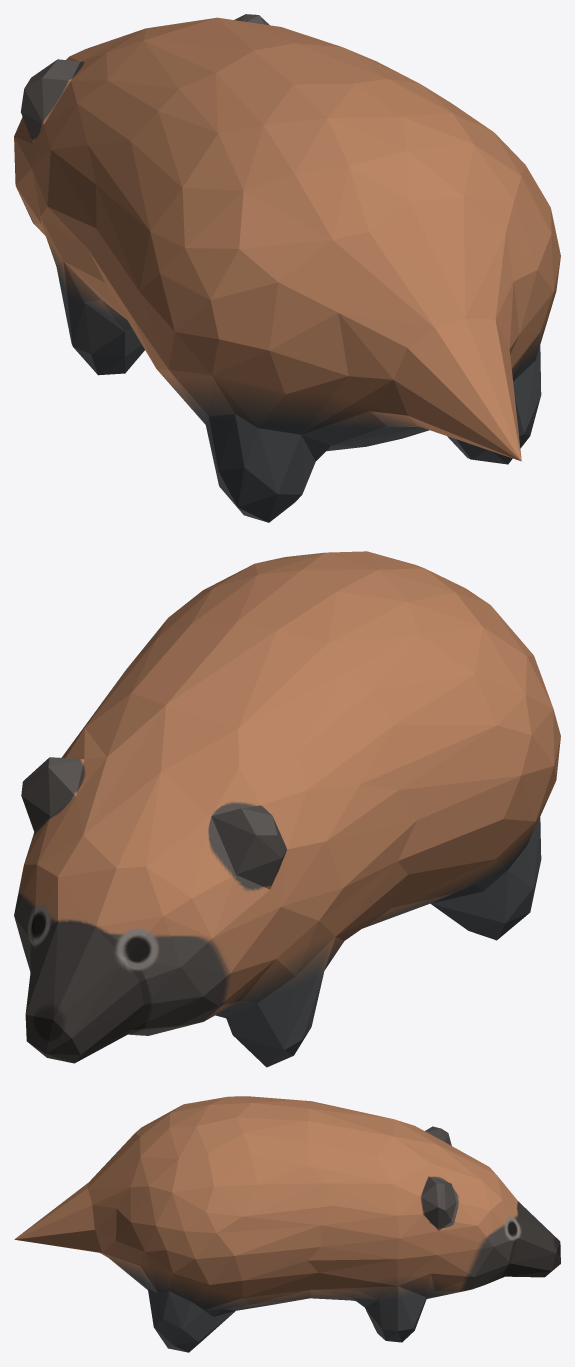
Rendered from animal_wolverine_blob.obj.
3 renders of one model, top to bottom at view 1: azimuth 30°, elevation 25°; view 2: azimuth 150°, elevation 25°; view 3: azimuth 270°, elevation 25°, orthographic. The views are drawn at different scales.
Parts seen in each view (by area): view 1: animal_wolverine_blob; view 2: animal_wolverine_blob; view 3: animal_wolverine_blob.
Boxes of the visible parts, x1,y1,x2,y2 form: animal_wolverine_blob: (14,14,560,522); animal_wolverine_blob: (14,551,560,1067); animal_wolverine_blob: (14,1096,560,1352).
Bounding box in the file's own units: 0.5688 × 0.524 × 1.23.
